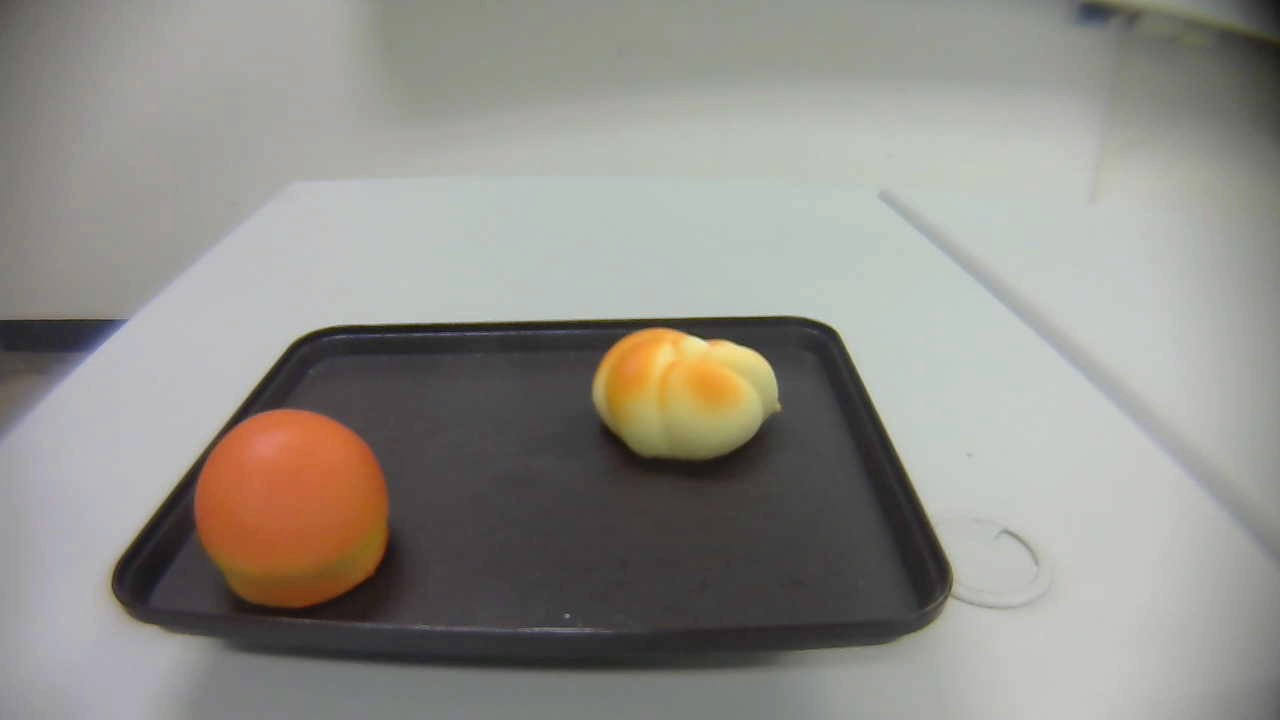bun: (194, 408, 393, 610)
twist bread: (590, 326, 781, 462)
